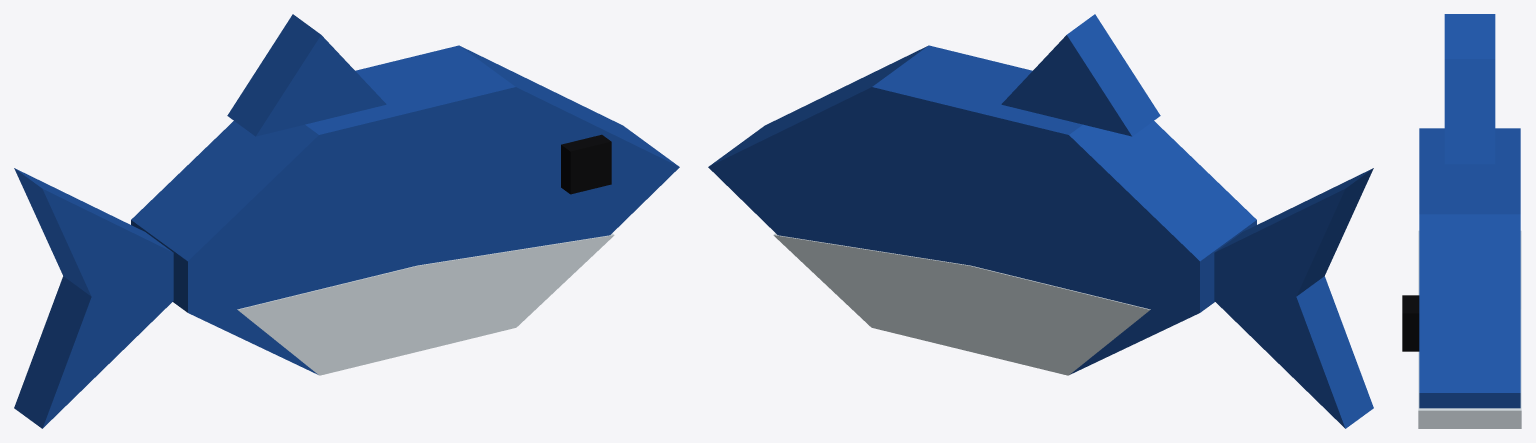
File: fish.glb
3 renders of one model, left to right at view 1: azimuth 30°, elevation 25°; view 2: azimuth 150°, elevation 25°; view 3: azimuth 270°, elevation 25°, orthographic. The views are drawn at different scales.
Parts seen in each view (by area): view 1: fish; view 2: fish; view 3: fish.
Part boxes in pixels (x1,y1,x2,y2): fish: (14,14,679,428); fish: (708,14,1373,428); fish: (1402,14,1521,428).
Size of the model in its own units: 0.38 by 0.19 by 0.0706.
Materials: 1 (1 with a texture image).
